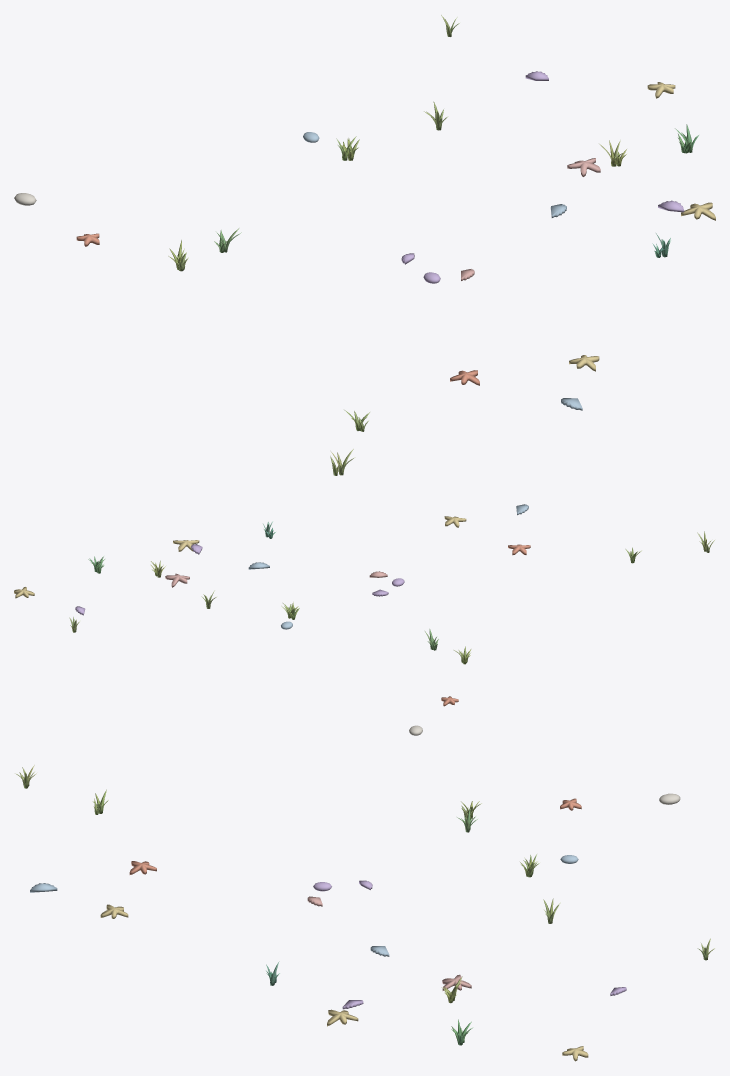
The model's file is W2_FloraRing_8_11.fbx.
The picture shows the model from 3 angles, top to bottom: view 1: azimuth 30°, elevation 25°; view 2: azimuth 150°, elevation 25°; view 3: azimuth 270°, elevation 25°; orthographic projection. The views are drawn at different scales.
Visible parts, largest first — view 1: W2_FloraRing_8_11; view 2: W2_FloraRing_8_11; view 3: W2_FloraRing_8_11.
Boxes of the visible parts, x1,y1,x2,y2 form: W2_FloraRing_8_11: [14, 15, 715, 475]; W2_FloraRing_8_11: [14, 504, 714, 735]; W2_FloraRing_8_11: [15, 765, 714, 1061].
Bounding box in the file's own units: 3.68 × 0.3729 × 3.8.
